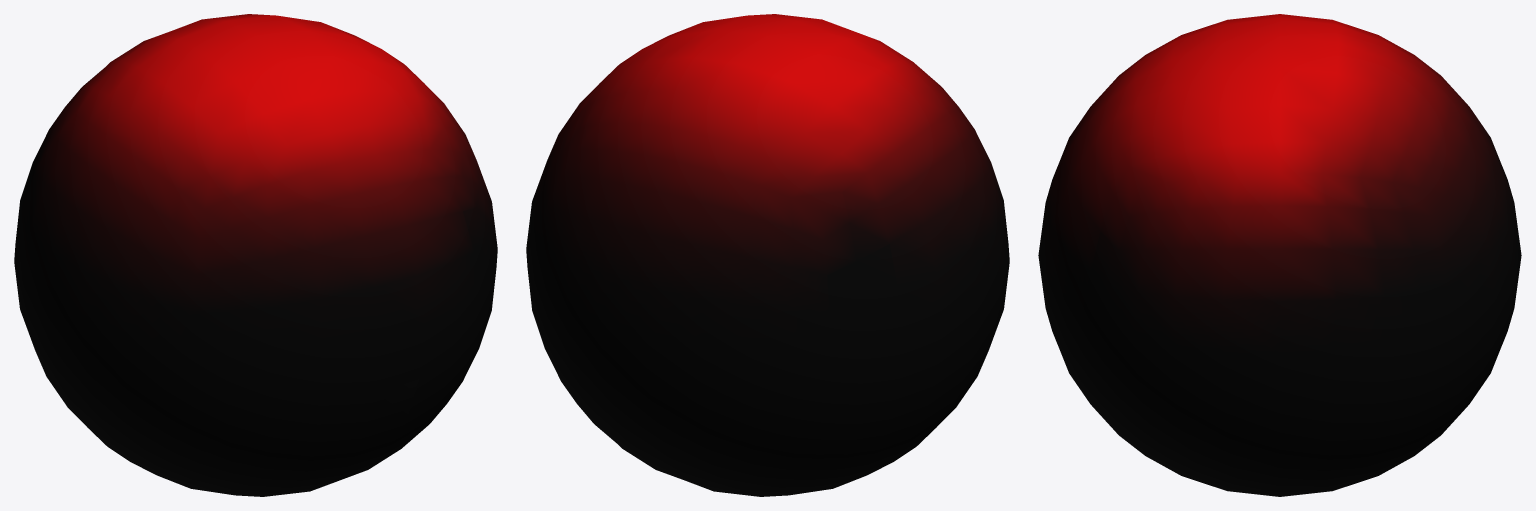
The picture shows the model from 3 angles, left to right: view 1: azimuth 30°, elevation 25°; view 2: azimuth 150°, elevation 25°; view 3: azimuth 270°, elevation 25°; orthographic projection.
Parts seen in each view (by area): view 1: Cube; view 2: Cube; view 3: Cube.
Boxes of the visible parts, box(x1,y1,x2,y2) form: Cube: box(14, 14, 497, 496); Cube: box(526, 14, 1009, 496); Cube: box(1038, 14, 1521, 496).
Size of the model in its own units: 258 by 258 by 258.
